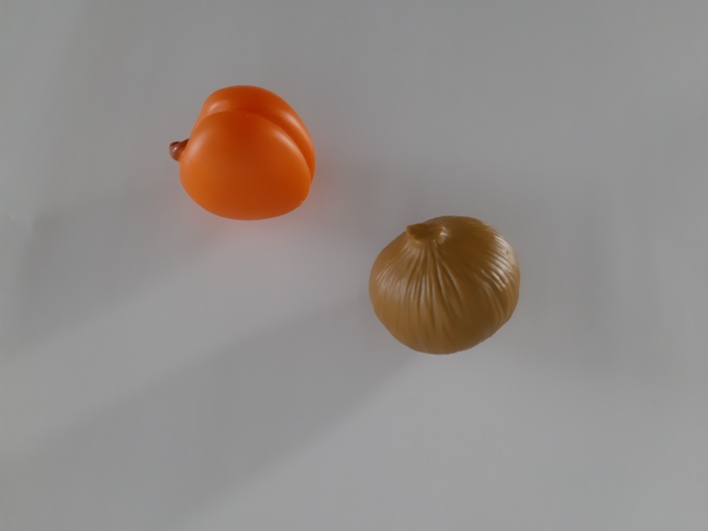apricot: (158, 68, 332, 242)
onion: (354, 208, 535, 363)
